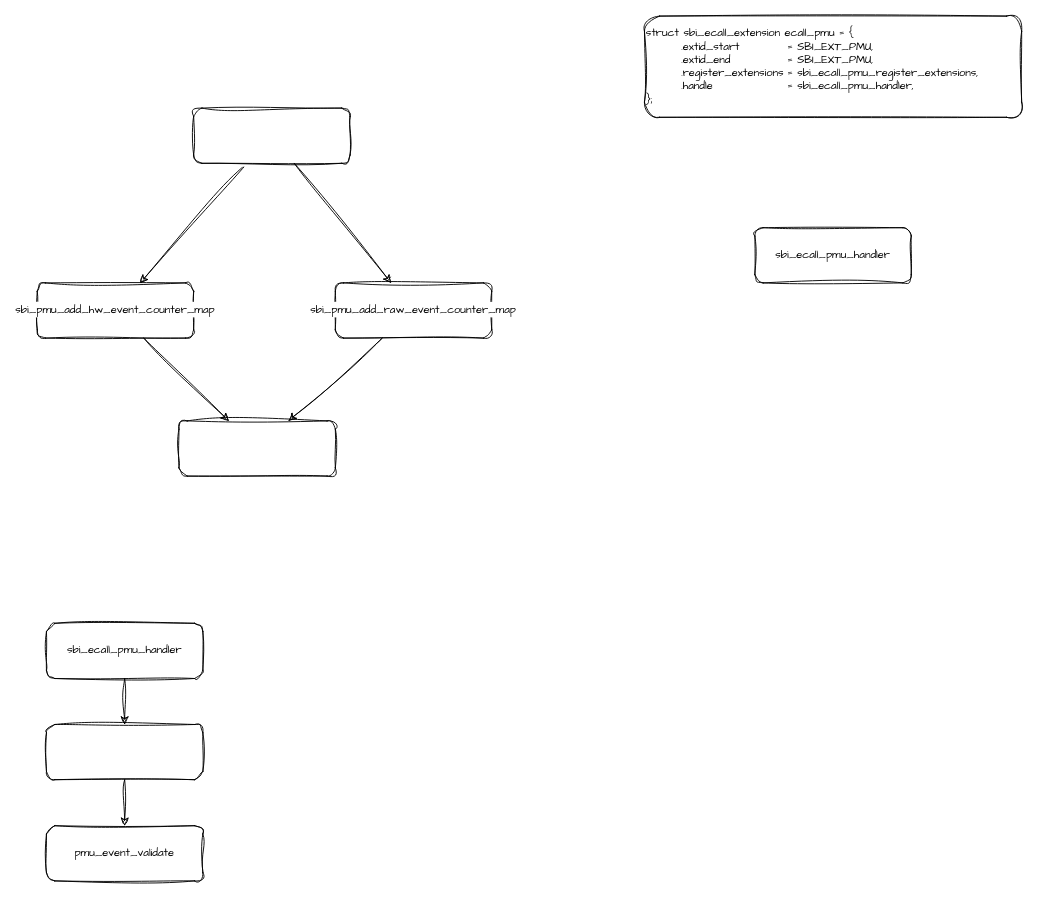
This 1038x897 diagram has some shape labels left out. Here are the shapes that lost their labels. From the top down, the box of each, then its label:
(193, 107, 350, 163): fdt_pmu_setup
(178, 420, 335, 476): pmu_add_hw_event_map
(46, 724, 203, 780): sbi_pmu_ctr_cfg_match
